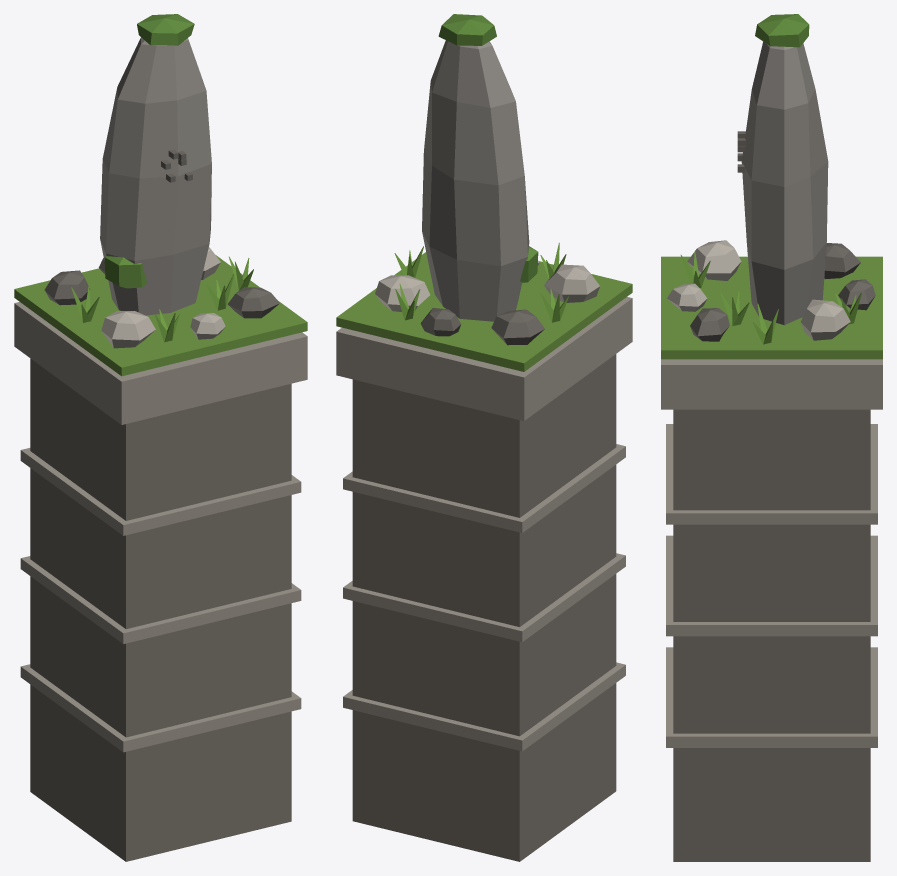
File: decor_standing_stone.glb
3 renders of one model, left to right at view 1: azimuth 30°, elevation 25°; view 2: azimuth 150°, elevation 25°; view 3: azimuth 270°, elevation 25°, orthographic. The views are drawn at different scales.
Parts seen in each view (by area): view 1: decor_standing_stone; view 2: decor_standing_stone; view 3: decor_standing_stone.
Part boxes in pixels (x1,y1,x2,y2): decor_standing_stone: (14,14,307,861); decor_standing_stone: (336,14,632,861); decor_standing_stone: (661,14,882,861).
Size of the model in its own units: 1.8 by 7.22 by 1.8.
